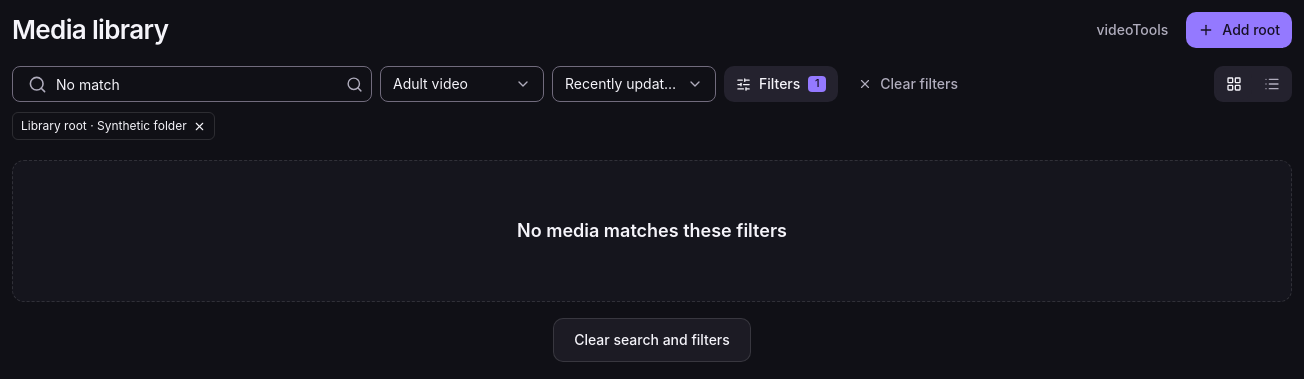
Test: keeps empty adult search recovery within its authorized query scope
Click the button "Clear search and filters": (652, 340) [553,318,751,362]
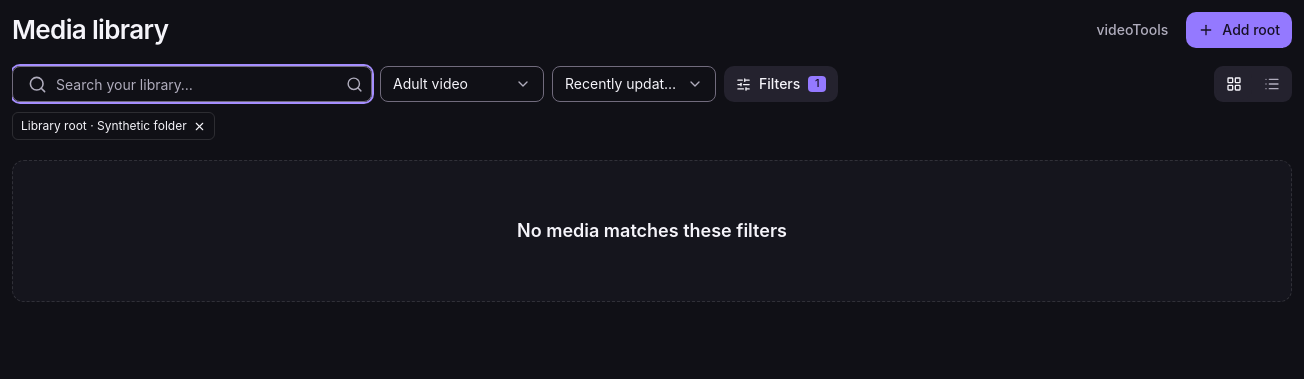
Now the button "Clear search and filters" is gone
